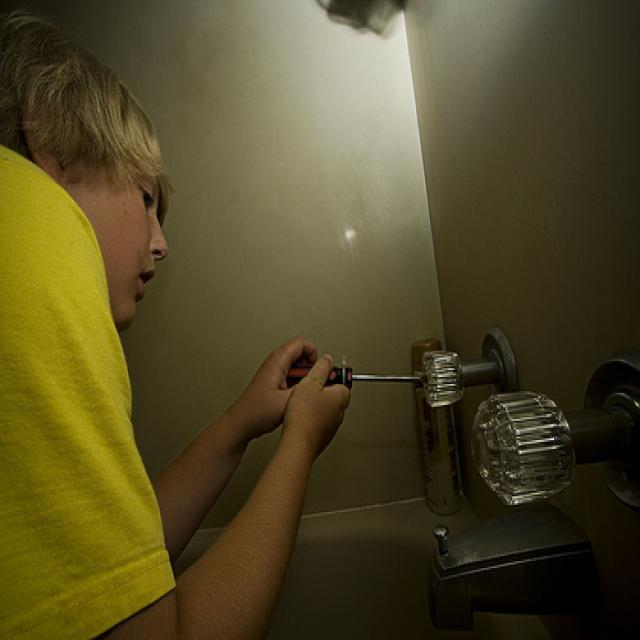screwdriver: (281, 353, 447, 417)
